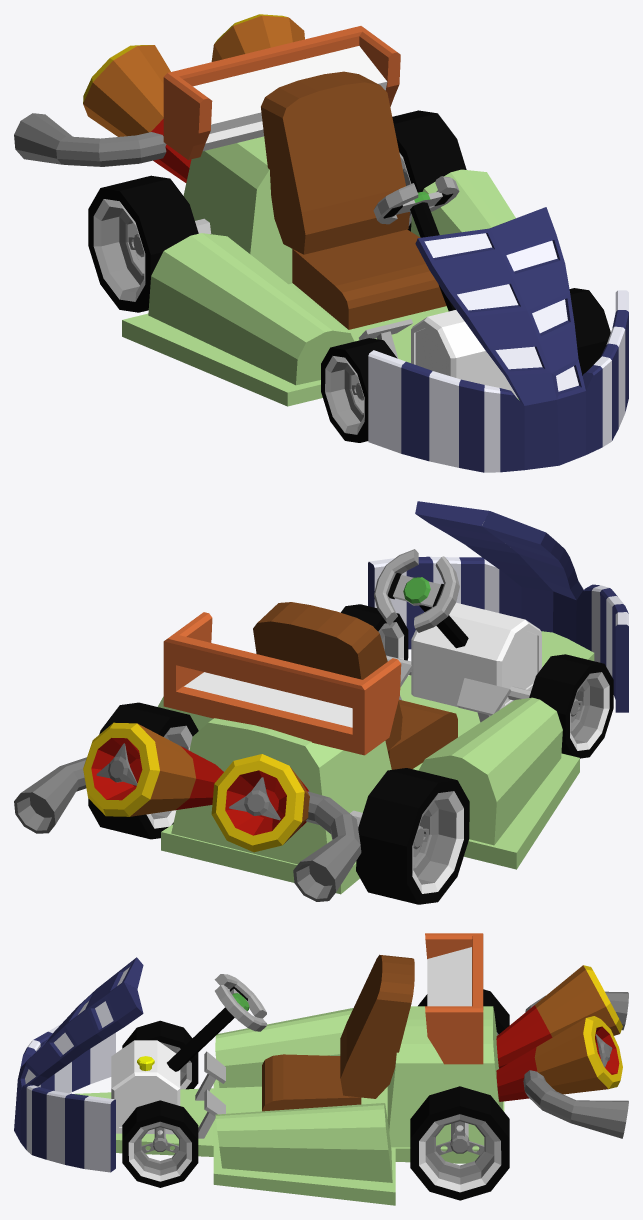
File: Kart4.glb
3 views of the same model, one above another, from view 1: azimuth 30°, elevation 25°; view 2: azimuth 150°, elevation 25°; view 3: azimuth 270°, elevation 25° (orthographic). The views are drawn at different scales.
Parts seen in each view (by area): view 1: Hood5, KartPlataform3, Chair5, WingsKart4, Catalysts5, Wheel_BR, Wheel_FR, Wheel_BL, SteeringWheel5, Wheel_FL, Pedals1; view 2: KartPlataform3, Catalysts5, Hood5, WingsKart4, Wheel_BR, Chair5, Wheel_FR, SteeringWheel5, Wheel_BL, Pedals1, Wheel_FL; view 3: KartPlataform3, Hood5, Catalysts5, Chair5, Wheel_BL, WingsKart4, Wheel_FL, SteeringWheel5, Wheel_FR, Pedals1, Wheel_BR.
Part boxes in pixels (bbox=[...]): Hood5: bbox=[368, 207, 628, 472]; KartPlataform3: bbox=[122, 136, 519, 406]; Chair5: bbox=[261, 71, 446, 329]; WingsKart4: bbox=[163, 26, 400, 159]; Catalysts5: bbox=[14, 14, 304, 182]; Wheel_BR: bbox=[88, 175, 198, 312]; Wheel_FR: bbox=[321, 338, 397, 442]; Wheel_BL: bbox=[392, 110, 466, 231]; SteeringWheel5: bbox=[373, 176, 459, 311]; Wheel_FL: bbox=[569, 288, 610, 375]; Pedals1: bbox=[359, 319, 412, 358]; KartPlataform3: bbox=[157, 602, 594, 894]; Catalysts5: bbox=[14, 722, 361, 901]; Hood5: bbox=[368, 501, 628, 712]; WingsKart4: bbox=[163, 612, 401, 755]; Wheel_BR: bbox=[356, 768, 469, 904]; Chair5: bbox=[253, 602, 457, 769]; Wheel_FR: bbox=[529, 654, 613, 758]; SteeringWheel5: bbox=[374, 549, 468, 648]; Wheel_BL: bbox=[88, 702, 198, 839]; Pedals1: bbox=[387, 659, 511, 722]; Wheel_FL: bbox=[341, 604, 408, 660]; KartPlataform3: bbox=[75, 1006, 504, 1205]; Hood5: bbox=[14, 957, 143, 1172]; Catalysts5: bbox=[496, 965, 628, 1138]; Chair5: bbox=[262, 954, 414, 1111]; Wheel_BL: bbox=[410, 1086, 509, 1200]; WingsKart4: bbox=[425, 933, 483, 1064]; Wheel_FL: bbox=[122, 1100, 198, 1187]; SteeringWheel5: bbox=[167, 974, 266, 1071]; Wheel_FR: bbox=[122, 1020, 198, 1089]; Pedals1: bbox=[195, 1051, 225, 1138]; Wheel_BR: bbox=[418, 989, 509, 1035].
Bounding box in the file's own units: 10.53 × 5.62 × 17.88.
